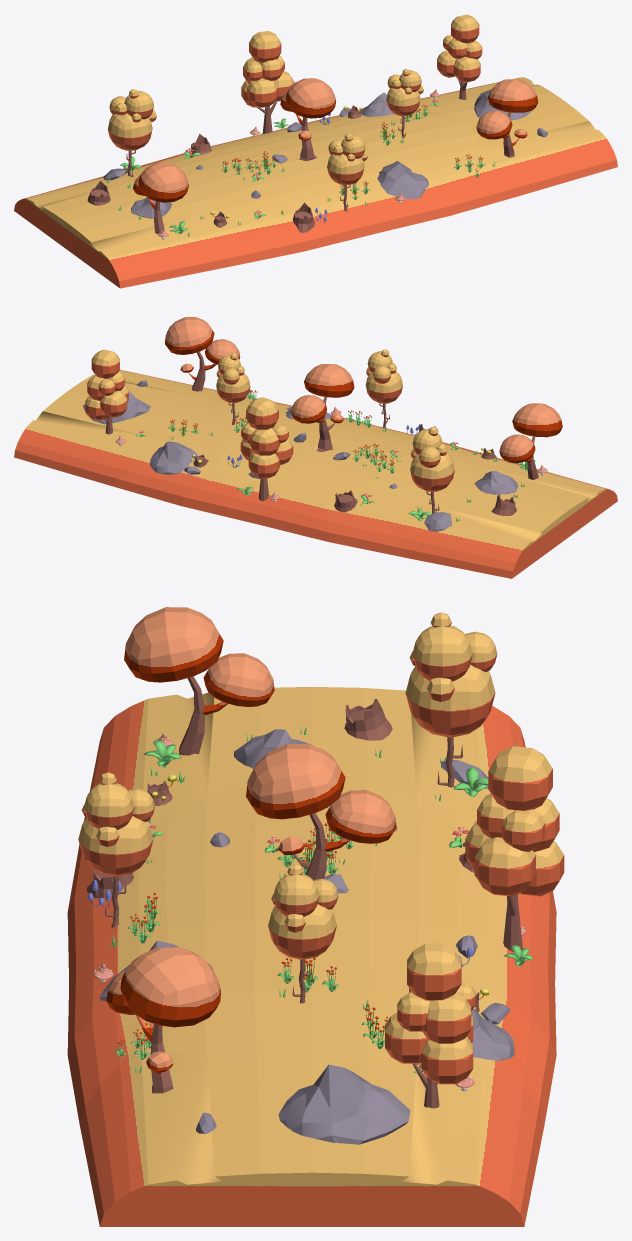
Rendered from New Autumn_wall.fbx.
The picture shows the model from 3 angles, top to bottom: view 1: azimuth 30°, elevation 25°; view 2: azimuth 150°, elevation 25°; view 3: azimuth 270°, elevation 25°; orthographic projection. The views are drawn at different scales.
Visible parts, largest first — view 1: Tree.203; view 2: Tree.203; view 3: Tree.203.
Part boxes in pixels (x1,y1,x2,y2): Tree.203: (14, 14, 617, 288); Tree.203: (14, 317, 617, 578); Tree.203: (67, 607, 564, 1226).
Size of the model in its own units: 6893 by 1548 by 2978.
